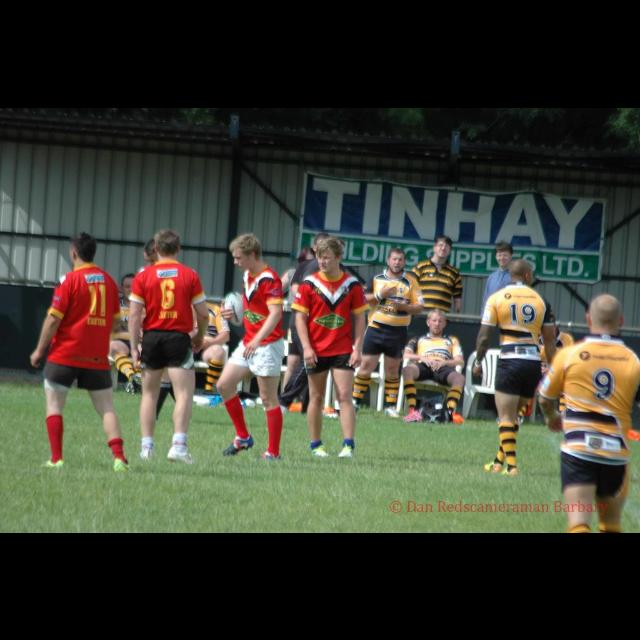Football: (224, 288, 244, 322)
